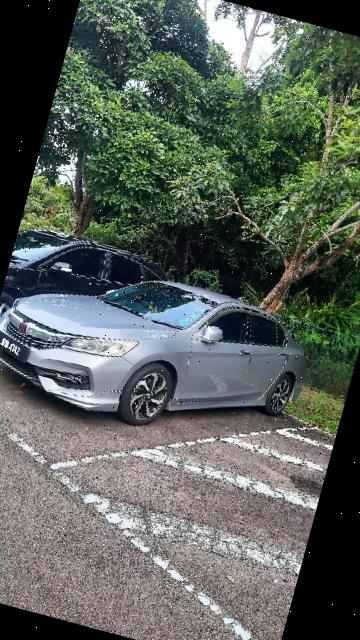License_Plate: (1, 327, 33, 368)
car: (1, 236, 324, 468), (1, 220, 189, 392)
